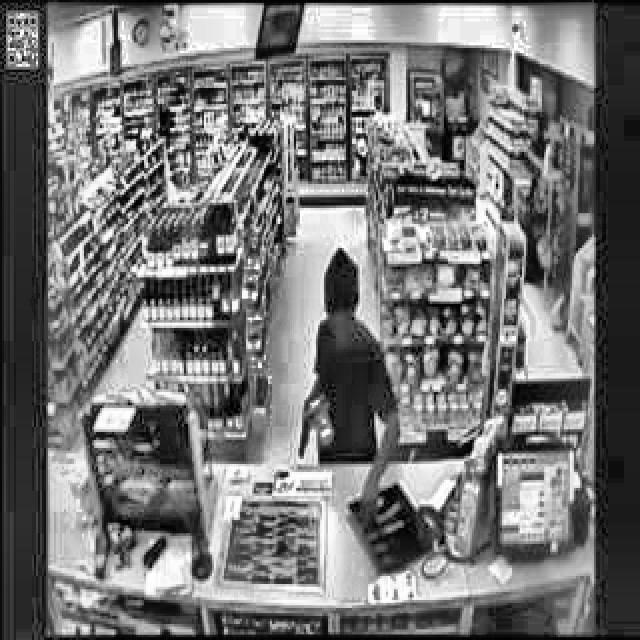robbery: (292, 242, 414, 532)
